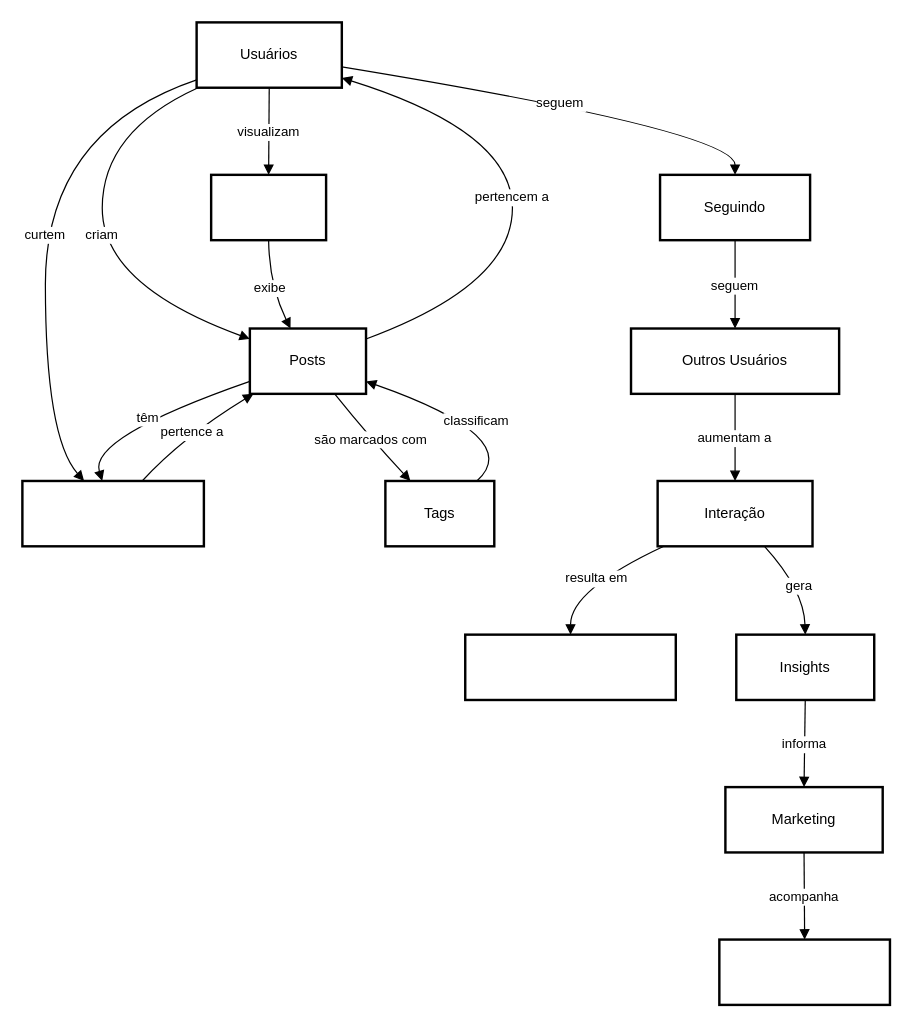
Some shapes in this 911 by 1026 pixel diagram are drawn without their labels. The centre of each missing label's shape, as x and y in pixels:
"Campanhas" belongs at point (804, 972).
"Comentários" belongs at point (112, 513).
"Feed" belongs at point (268, 207).
"Recomendações" belongs at point (569, 667).
